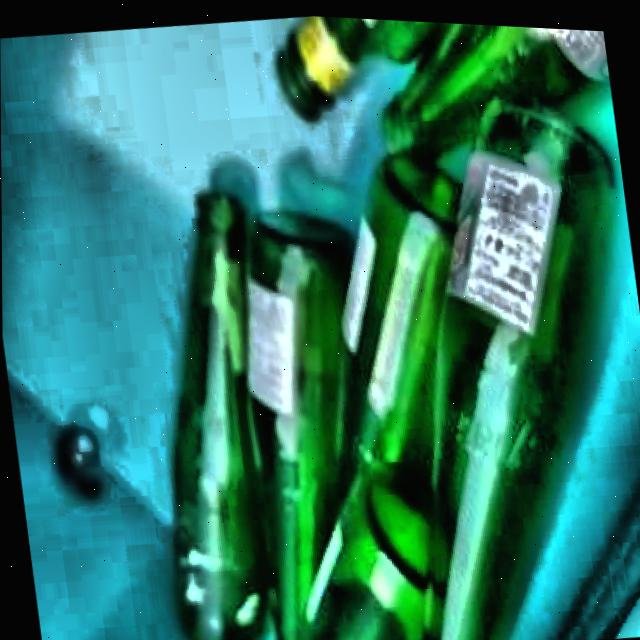glass: (172, 12, 613, 640)
